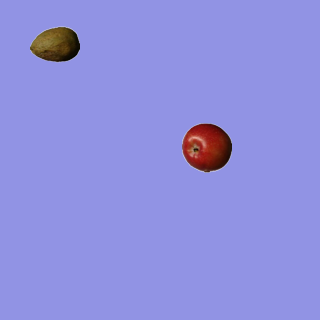Apple Braeburn: (181, 122, 231, 172)
Papaya: (29, 19, 79, 69)
